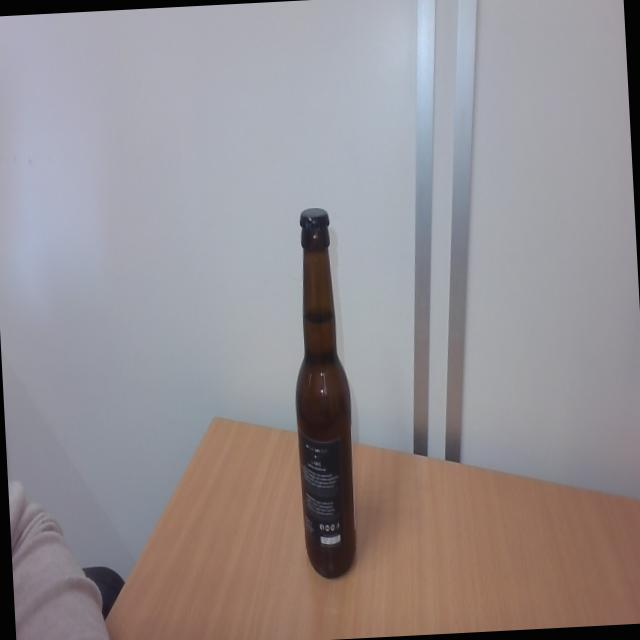Bottle: (284, 232, 362, 580)
Cap: (298, 204, 334, 238)
Label: (295, 428, 351, 554)
